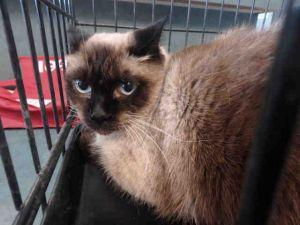siamese: (53, 15, 171, 142)
